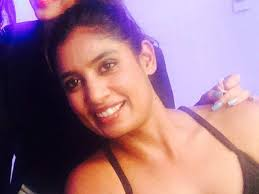indian_female: (30, 1, 185, 149)
